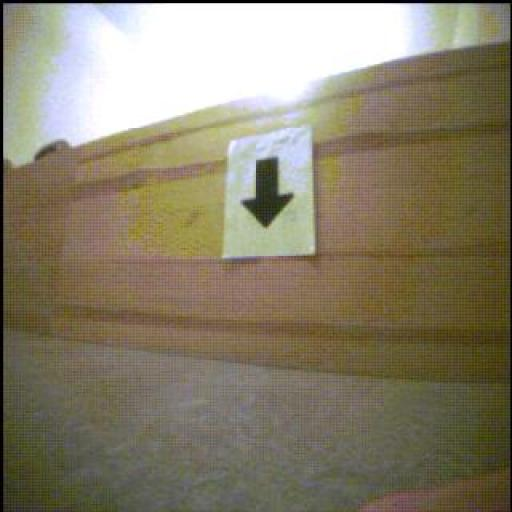Arrow: (243, 158, 294, 228)
